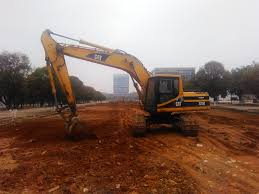bulldozer: (39, 27, 212, 140)
